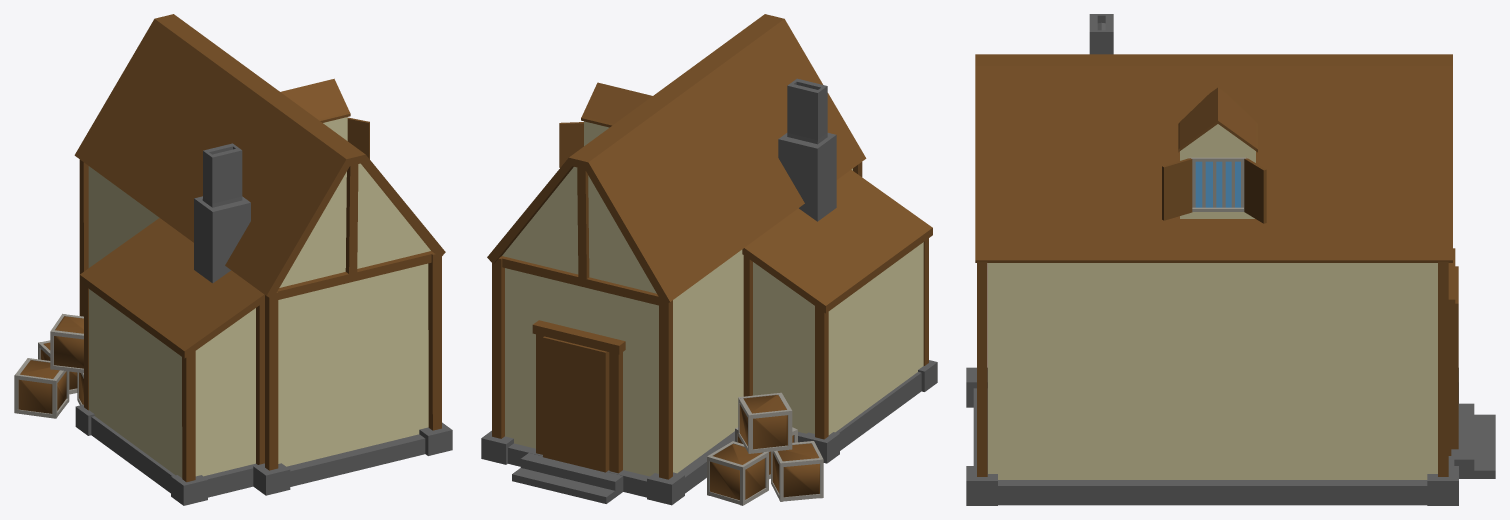
File: house_window.fbx
3 views of the same model, side by side, from view 1: azimuth 30°, elevation 25°; view 2: azimuth 150°, elevation 25°; view 3: azimuth 270°, elevation 25° (orthographic). The views are drawn at different scales.
Visible parts, largest first — view 1: Cube, Cube.009, Cube.010, Cube.013, Cube.018, Cube.019, Cube.005, Cube.014, Cube.015, Cube.021, Cube.024, Cube.016 (+2 smaller); view 2: Cube, Cube.009, Cube.010, Cube.001, Cube.005, Cube.002, Cube.017, Cube.020, Cube.021, Cube.019, Cube.011, Cube.007 (+6 smaller); view 3: Cube, Cube.009, Cube.022, Cube.024, Cube.002, Cube.007, Cube.014, Cube.013, Cube.001, Cube.005, Cube.011.
Boxes of the visible parts, left/top/right/bottom form: Cube: left=88, top=163, right=430, bottom=497; Cube.009: left=74, top=14, right=445, bottom=299; Cube.010: left=79, top=218, right=264, bottom=358; Cube.013: left=253, top=292, right=452, bottom=495; Cube.018: left=182, top=301, right=264, bottom=482; Cube.019: left=14, top=358, right=69, bottom=418; Cube.005: left=75, top=159, right=207, bottom=505; Cube.014: left=428, top=253, right=441, bottom=430; Cube.015: left=277, top=251, right=434, bottom=299; Cube.021: left=50, top=313, right=83, bottom=373; Cube.024: left=281, top=78, right=350, bottom=122; Cube.016: left=345, top=164, right=358, bottom=276; Cube: left=502, top=167, right=923, bottom=497; Cube.009: left=487, top=14, right=866, bottom=305; Cube.010: left=742, top=169, right=932, bottom=313; Cube.001: left=543, top=336, right=609, bottom=472; Cube.005: left=481, top=298, right=937, bottom=505; Cube.002: left=512, top=453, right=623, bottom=503; Cube.017: left=743, top=255, right=828, bottom=439; Cube.020: left=707, top=441, right=768, bottom=505; Cube.021: left=738, top=392, right=792, bottom=453; Cube.019: left=771, top=441, right=823, bottom=501; Cube.011: left=536, top=334, right=622, bottom=473; Cube.007: left=492, top=258, right=504, bottom=438; Cube: left=973, top=263, right=1454, bottom=505; Cube.009: left=975, top=14, right=1452, bottom=262; Cube.022: left=1162, top=124, right=1266, bottom=223; Cube.024: left=1178, top=87, right=1257, bottom=152; Cube.002: left=1454, top=403, right=1495, bottom=478; Cube.007: left=1438, top=261, right=1448, bottom=476; Cube.014: left=977, top=261, right=987, bottom=476; Cube.013: left=966, top=367, right=997, bottom=505; Cube.001: left=1451, top=266, right=1458, bottom=449; Cube.005: left=1427, top=368, right=1458, bottom=505; Cube.011: left=1448, top=310, right=1451, bottom=455.
Size of the model in its own units: 364 by 380 by 463.
